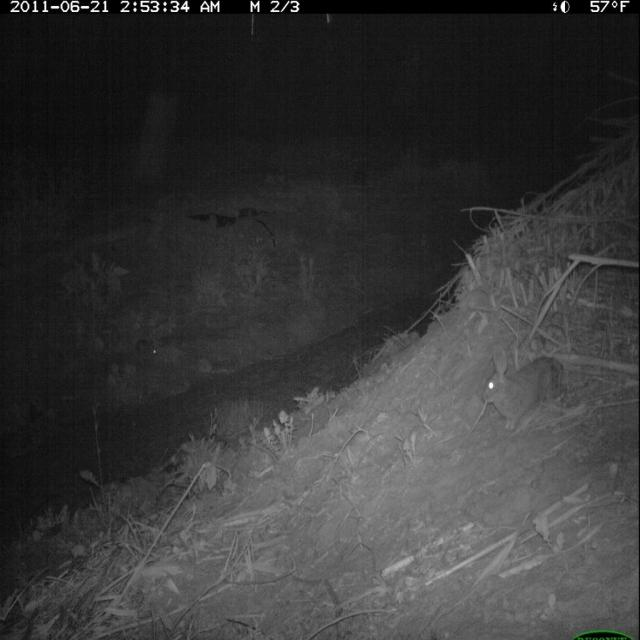rabbit: (479, 338, 570, 436), (134, 336, 159, 360)
